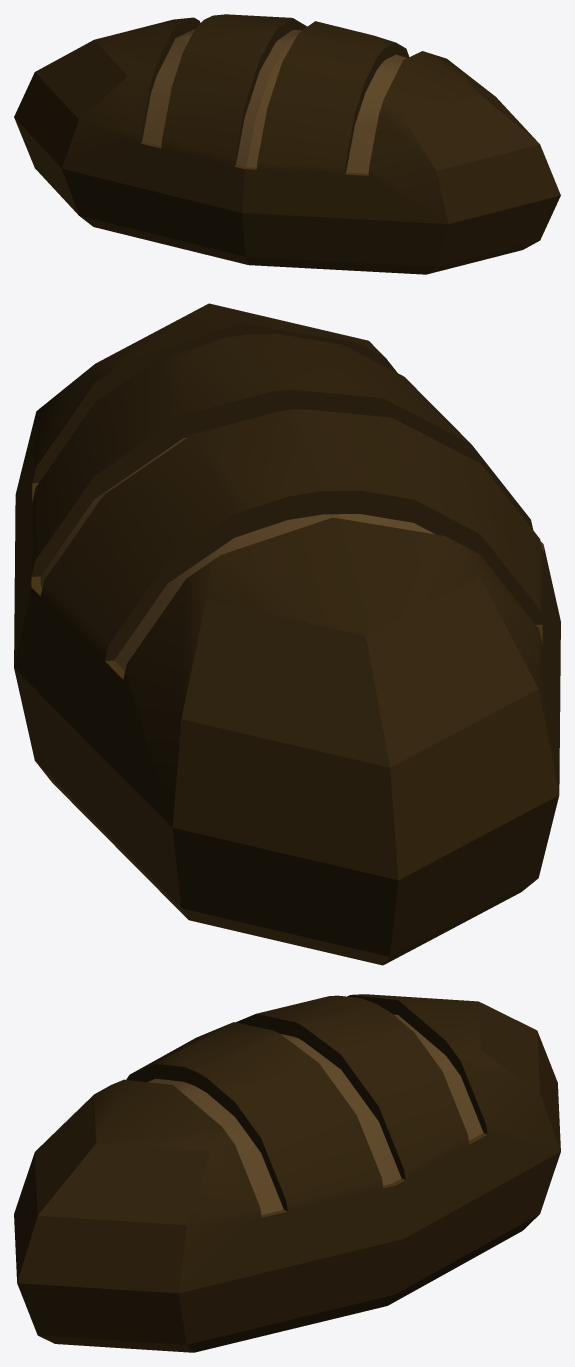
Rendered from FoodBread.fbx.
3 views of the same model, one above another, from view 1: azimuth 30°, elevation 25°; view 2: azimuth 150°, elevation 25°; view 3: azimuth 270°, elevation 25° (orthographic). The views are drawn at different scales.
Visible parts, largest first — view 1: pSphere38; view 2: pSphere38; view 3: pSphere38.
Part boxes in pixels (x1=…): pSphere38: x1=14, y1=14, x2=560, y2=274; pSphere38: x1=14, y1=303, x2=560, y2=965; pSphere38: x1=14, y1=994, x2=560, y2=1352.
Bounding box in the file's own units: 27.77 × 13.47 × 29.03.
